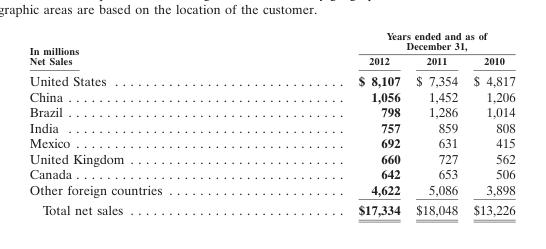table: (28, 28, 514, 217)
table column: (28, 28, 259, 217), (259, 28, 407, 217), (407, 28, 464, 217), (464, 28, 514, 217)
table column header: (28, 28, 514, 69)
table row: (28, 28, 514, 52), (28, 69, 514, 88), (28, 181, 514, 199), (28, 199, 514, 217), (28, 52, 514, 69), (28, 103, 514, 119), (28, 134, 514, 150), (28, 165, 514, 181), (28, 88, 514, 103), (28, 119, 514, 134), (28, 150, 514, 165)
table spanning cell: (28, 28, 259, 69), (259, 28, 514, 52)
